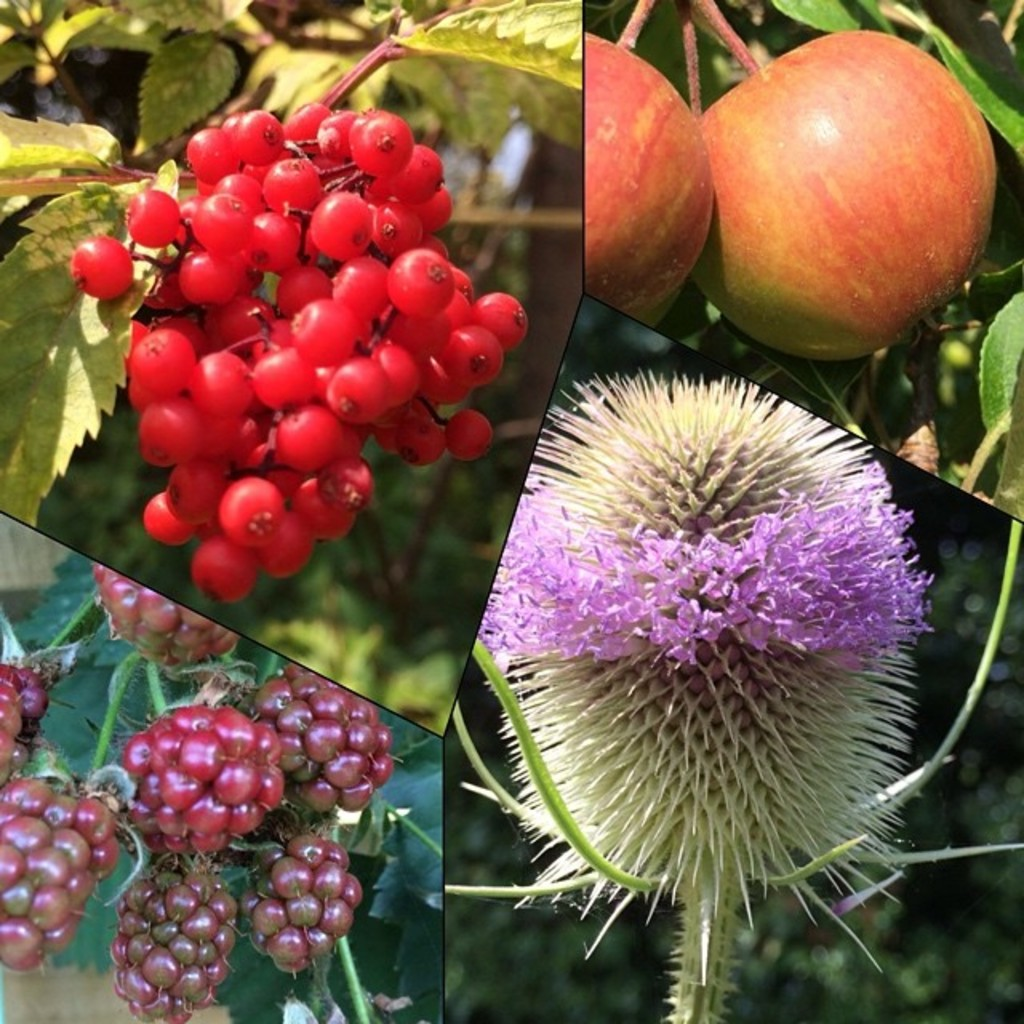Apple: (692, 14, 1008, 356), (585, 24, 715, 327)
